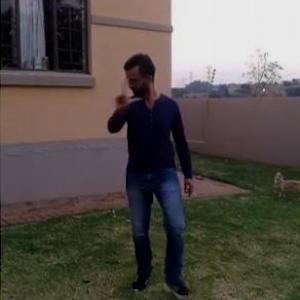land_hand: (109, 74, 142, 107)
